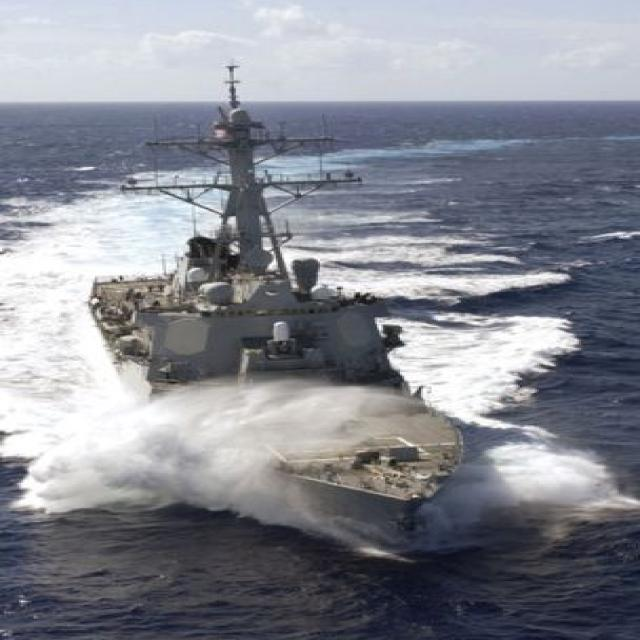navalvessels: (45, 97, 502, 545)
